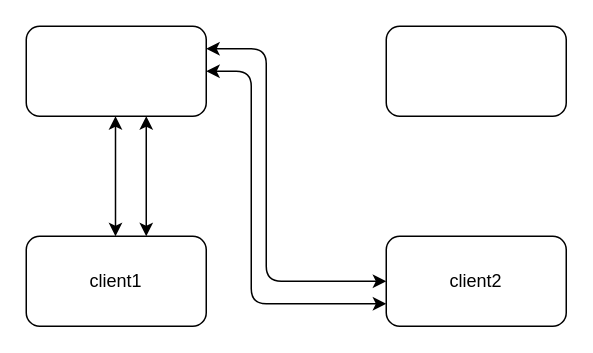
Image size: 593x353. Some labels were removed from this diagram. Here are the shapes that lost their labels. From the top down, the centre of each, then its label:
At (115,70): "mqServer1".
At (475,70): "mqServer2".
